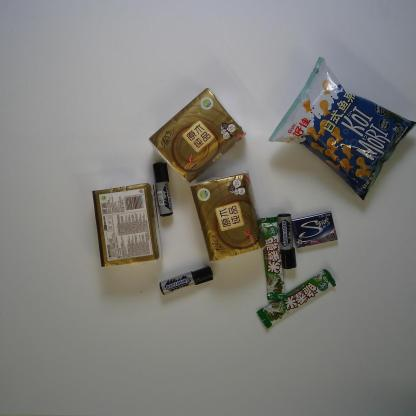Chocolate: (256, 267, 336, 329), (257, 216, 285, 302)
Gum: (291, 209, 339, 248)
Puffed Food: (266, 56, 415, 202)
Stationery: (158, 265, 214, 296), (150, 162, 174, 216), (277, 213, 298, 270)
Tissue: (147, 87, 248, 184), (189, 171, 263, 263), (91, 183, 162, 269)
